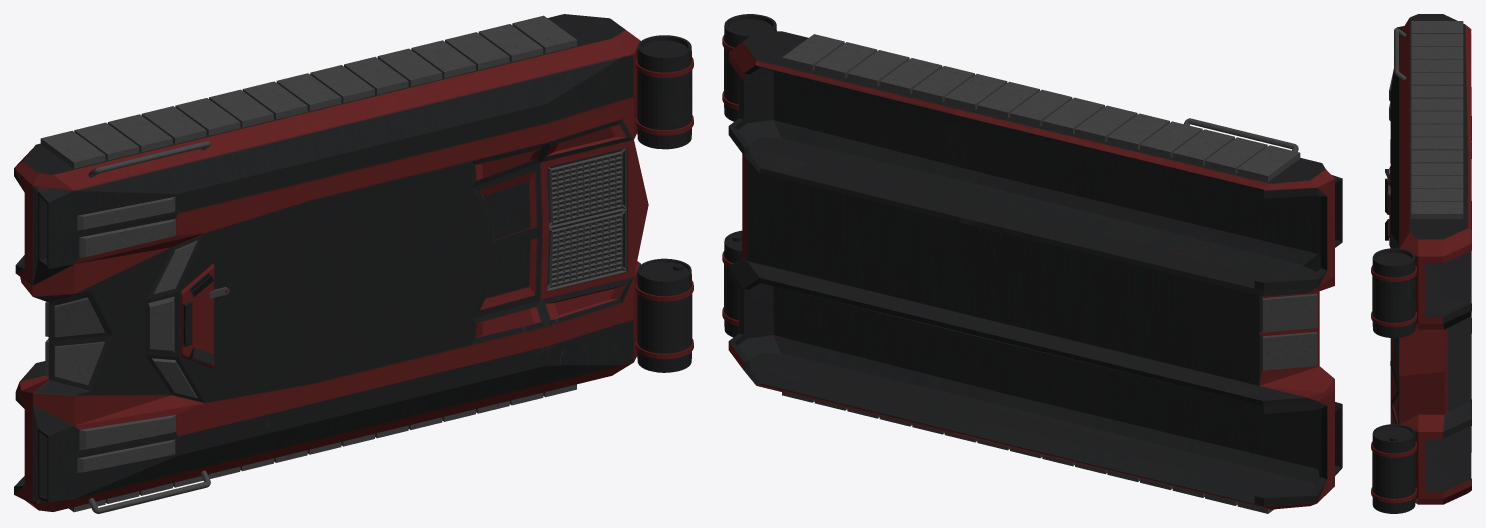
Rendered from Hull.glb.
3 views of the same model, side by side, from view 1: azimuth 30°, elevation 25°; view 2: azimuth 150°, elevation 25°; view 3: azimuth 270°, elevation 25° (orthographic). The views are drawn at different scales.
Parts seen in each view (by area): view 1: Chassis.009, Chassis_metallic; view 2: Chassis.009, Chassis_metallic; view 3: Chassis.009, Chassis_metallic.
Part boxes in pixels (x1,y1,x2,y2): Chassis.009: (14, 14, 693, 511); Chassis_metallic: (40, 15, 626, 513); Chassis.009: (722, 14, 1342, 509); Chassis_metallic: (782, 34, 1317, 513); Chassis.009: (1371, 14, 1471, 513); Chassis_metallic: (1388, 21, 1463, 218).
Size of the model in its own units: 0.8794 by 0.4565 by 0.1516.
4 materials, 2 textured.
